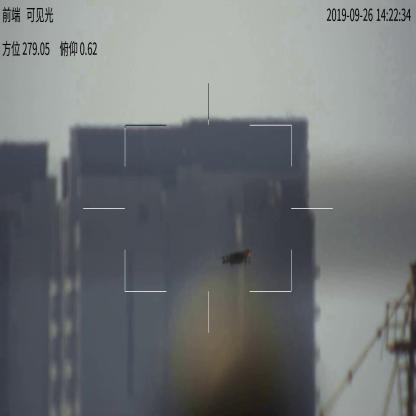uav: (216, 246, 256, 270)
